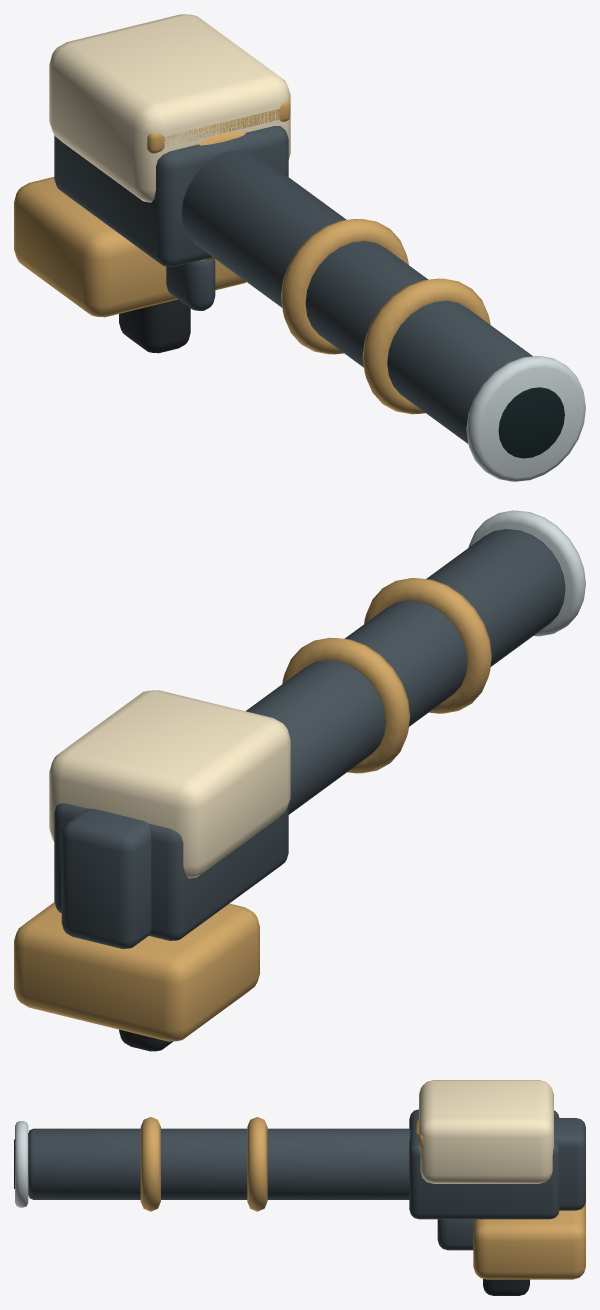
Rendered from shoulder_battery.t3.glb.
3 renders of one model, top to bottom at view 1: azimuth 30°, elevation 25°; view 2: azimuth 150°, elevation 25°; view 3: azimuth 270°, elevation 25°, orthographic. The views are drawn at different scales.
Visible parts, largest first — view 1: weapon_shoulder__forged_bluelead_steel__protected, weapon_shoulder__clay_warm_ivory__protected, weapon_shoulder__worn_warm_brass__protected, weapon_shoulder__honed_steel_edge__protected, weapon_shoulder__eye_socket__protected, weapon_right__charcoal_rubber__protected, weapon_right__forged_bluelead_steel__protected; view 2: weapon_shoulder__forged_bluelead_steel__protected, weapon_shoulder__worn_warm_brass__protected, weapon_shoulder__clay_warm_ivory__protected, weapon_right__forged_bluelead_steel__protected, weapon_shoulder__honed_steel_edge__protected; view 3: weapon_shoulder__forged_bluelead_steel__protected, weapon_shoulder__clay_warm_ivory__protected, weapon_shoulder__worn_warm_brass__protected, weapon_right__forged_bluelead_steel__protected, weapon_shoulder__honed_steel_edge__protected, weapon_right__charcoal_rubber__protected.
Boxes of the visible parts, left/top/right/bottom form: weapon_shoulder__forged_bluelead_steel__protected: left=54, top=126, right=532, bottom=443; weapon_shoulder__clay_warm_ivory__protected: left=49, top=14, right=290, bottom=202; weapon_shoulder__worn_warm_brass__protected: left=14, top=100, right=490, bottom=414; weapon_shoulder__honed_steel_edge__protected: left=466, top=356, right=585, bottom=481; weapon_shoulder__eye_socket__protected: left=498, top=387, right=564, bottom=458; weapon_right__charcoal_rubber__protected: left=119, top=299, right=190, bottom=353; weapon_right__forged_bluelead_steel__protected: left=166, top=260, right=215, bottom=310; weapon_shoulder__forged_bluelead_steel__protected: left=54, top=529, right=565, bottom=940; weapon_shoulder__worn_warm_brass__protected: left=14, top=578, right=491, bottom=1041; weapon_shoulder__clay_warm_ivory__protected: left=49, top=690, right=290, bottom=878; weapon_right__forged_bluelead_steel__protected: left=61, top=808, right=151, bottom=948; weapon_shoulder__honed_steel_edge__protected: left=468, top=510, right=585, bottom=636; weapon_shoulder__forged_bluelead_steel__protected: left=28, top=1109, right=559, bottom=1219; weapon_shoulder__clay_warm_ivory__protected: left=419, top=1080, right=553, bottom=1183; weapon_shoulder__worn_warm_brass__protected: left=140, top=1117, right=585, bottom=1279; weapon_right__forged_bluelead_steel__protected: left=437, top=1118, right=585, bottom=1250; weapon_shoulder__honed_steel_edge__protected: left=15, top=1121, right=28, bottom=1207; weapon_right__charcoal_rubber__protected: left=483, top=1278, right=529, bottom=1295.
Size of the model in its own units: 0.35 by 0.565 by 1.52.
